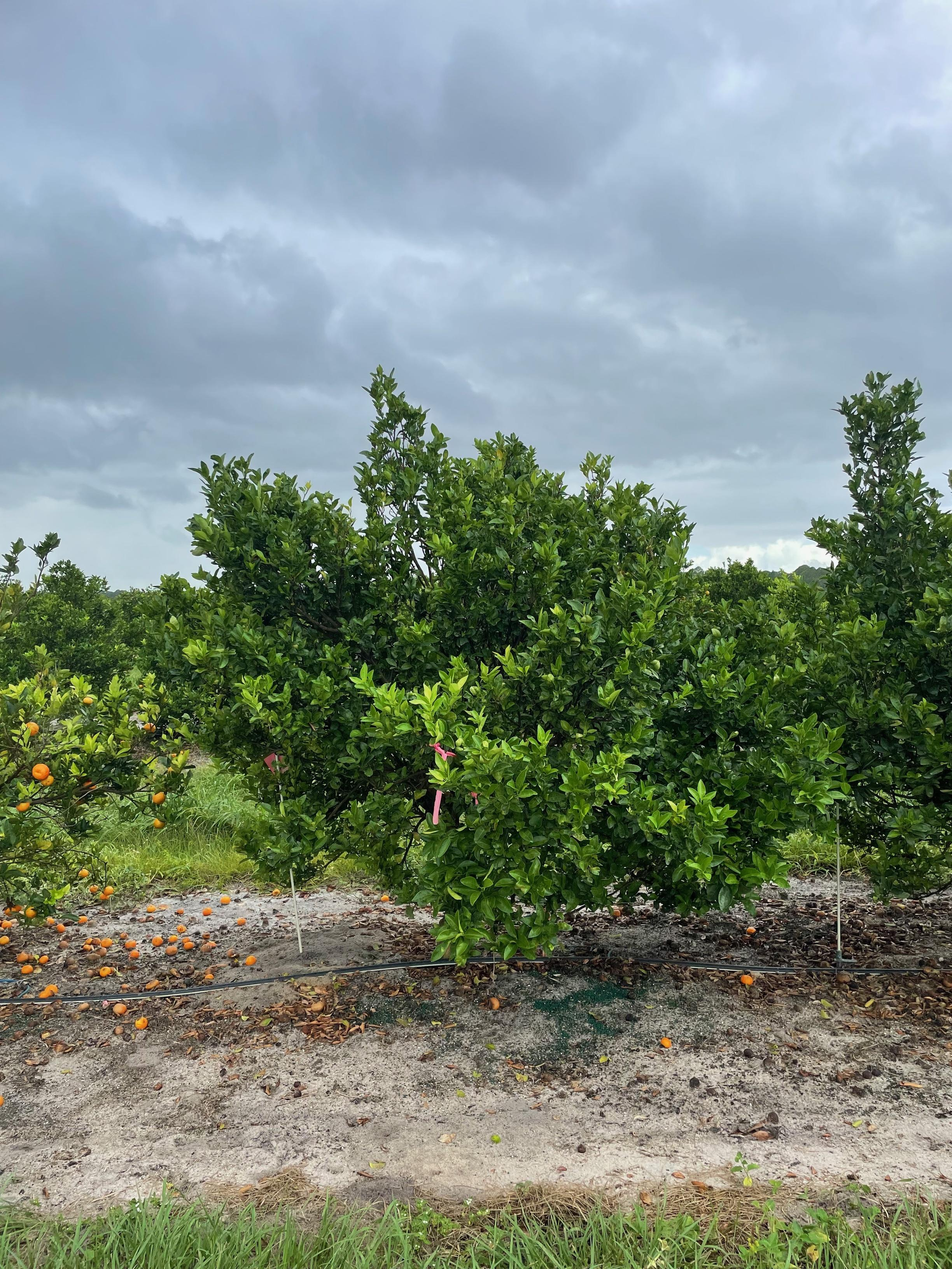fruit_on_ground: (31, 761, 52, 783), (21, 719, 42, 738), (80, 776, 99, 792), (38, 771, 56, 787), (151, 790, 168, 806), (14, 798, 32, 813), (82, 692, 98, 707), (142, 720, 157, 734), (3, 904, 17, 918), (24, 905, 38, 919), (152, 817, 166, 830), (102, 885, 115, 897), (77, 867, 89, 879), (10, 902, 22, 914), (89, 883, 100, 894), (99, 891, 110, 902)
fruit_on_tree: (485, 994, 504, 1012), (738, 971, 756, 987), (133, 1015, 150, 1031), (659, 1034, 674, 1049), (113, 1002, 128, 1016), (97, 964, 113, 977), (38, 988, 54, 1001), (243, 953, 258, 966), (144, 978, 160, 990), (20, 963, 35, 975), (744, 923, 757, 936), (608, 907, 622, 919), (164, 945, 178, 957), (44, 983, 58, 995), (166, 933, 179, 945), (199, 943, 213, 954), (16, 951, 30, 962), (1, 918, 13, 930), (219, 893, 231, 905), (269, 886, 282, 897), (42, 916, 55, 927), (89, 936, 102, 947), (75, 914, 88, 925), (182, 940, 195, 951), (201, 905, 214, 916), (201, 930, 213, 941), (225, 947, 237, 958), (204, 970, 216, 981), (0, 934, 11, 946), (128, 949, 140, 960), (37, 953, 49, 964), (101, 936, 113, 947), (151, 936, 163, 947), (124, 939, 137, 949), (55, 923, 66, 934), (118, 930, 130, 940), (379, 893, 391, 903), (236, 916, 248, 926), (176, 923, 187, 933), (81, 942, 93, 951), (58, 939, 68, 949), (175, 907, 185, 916), (146, 903, 156, 912), (156, 902, 165, 911), (181, 935, 190, 944), (84, 937, 94, 945)
